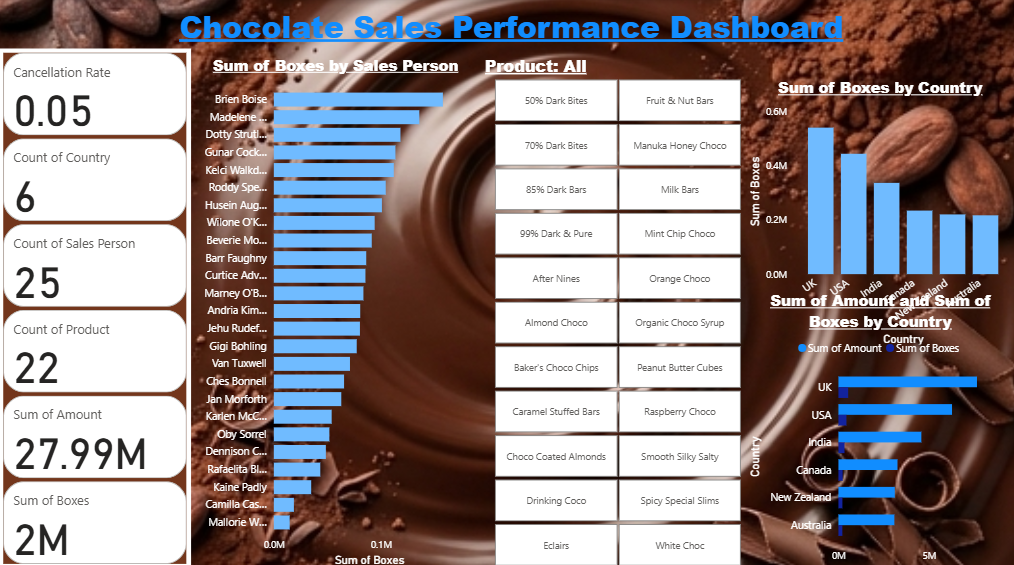

This screenshot's page, from the dashboard's own definition file:
{"tool":"powerbi","page":{"name":"Page 01","canvas":[1280,720],"ordinal":0},"visuals":[{"type":"textbox","box":[9.4,0,1271.8,90.7],"z":0},{"type":"cardVisual","fields":{"Data":["data.Cancellation Rate","Count(data.Country)","Count(data.Sales Person)","Count(data.Product)","Sum(data.Amount)","Sum(data.Boxes)"]},"box":[0,62.4,241.9,657.6],"z":1000},{"type":"slicer","fields":{"Values":["data.Product"]},"box":[599.7,62,359.5,658.5],"z":2000},{"type":"clusteredBarChart","fields":{"Category":["data.Sales Person"],"Y":["Sum(data.Boxes)","select"]},"box":[241.8,62,364.2,656.9],"z":3000},{"type":"columnChart","fields":{"Category":["data.Country"],"Y":["Sum(data.Boxes)"]},"box":[938.5,90.7,342,349.9],"z":4000},{"type":"clusteredBarChart","fields":{"Y":["Sum(data.Amount)","Sum(data.Boxes)"],"Category":["data.Country"]},"box":[938.5,359.5,342,361.1],"z":5000}]}

Visuals, with their boxes in screenshot pixels (x1, y1, x2, y2), scaled from the page's 1280x720 canvas onto the 1014x565 screenshot:
textbox: region(7, 0, 1013, 71)
cardVisual - data.Cancellation Rate x Count(data.Country): region(0, 49, 192, 564)
slicer - data.Product: region(475, 49, 760, 564)
clusteredBarChart - data.Sales Person x Sum(data.Boxes): region(192, 49, 480, 564)
columnChart - data.Country x Sum(data.Boxes): region(743, 71, 1013, 346)
clusteredBarChart - Sum(data.Amount) x Sum(data.Boxes): region(743, 282, 1013, 564)
